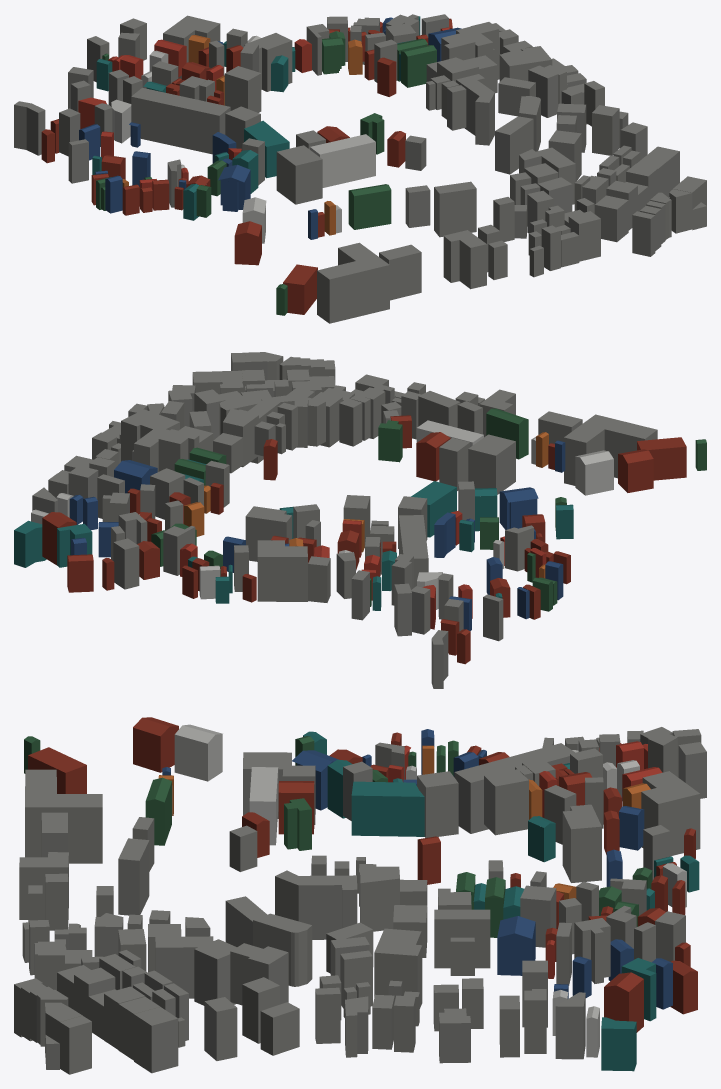
The model's file is near-17-109442-59475.0a3e4a25.glb.
The picture shows the model from 3 angles, top to bottom: view 1: azimuth 30°, elevation 25°; view 2: azimuth 150°, elevation 25°; view 3: azimuth 270°, elevation 25°; orthographic projection. The views are drawn at different scales.
Size of the model in its own units: 300 by 63.39 by 303.
